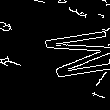M_W: (8, 27, 102, 83)
